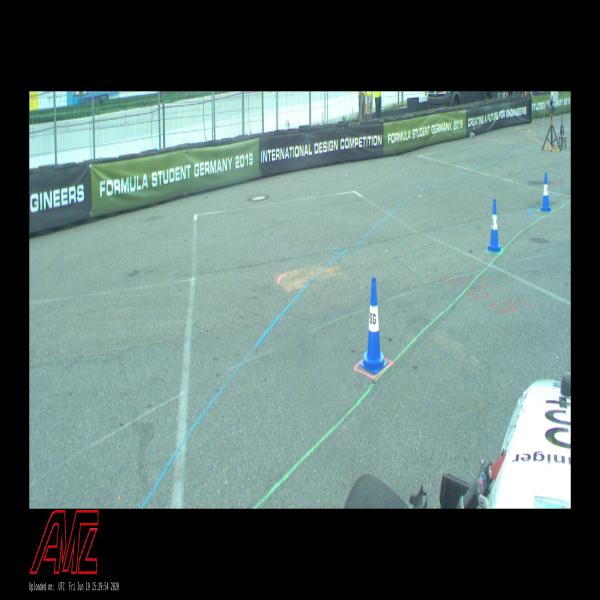blue_cone: (360, 276, 388, 373), (487, 199, 501, 252), (541, 173, 551, 211)
